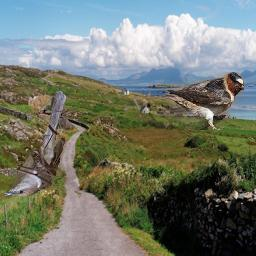Cuckoo: (3, 92, 68, 197)
Swallow: (164, 72, 244, 130)
